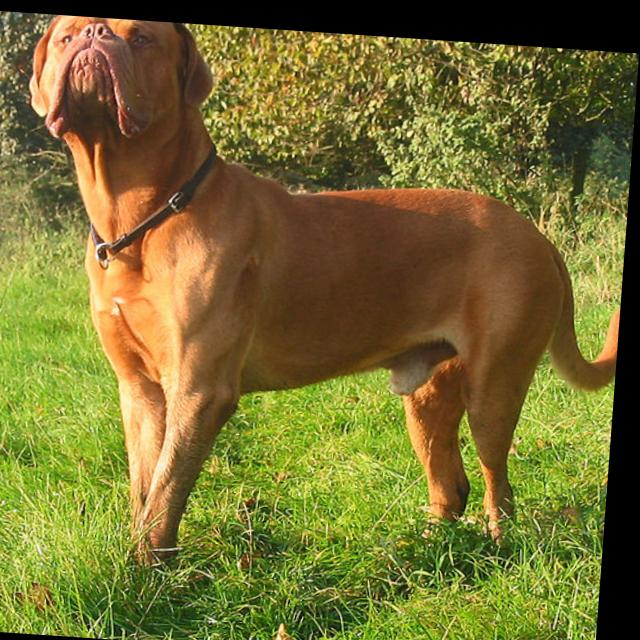dogue_de_bordeaux: (3, 14, 640, 592)
